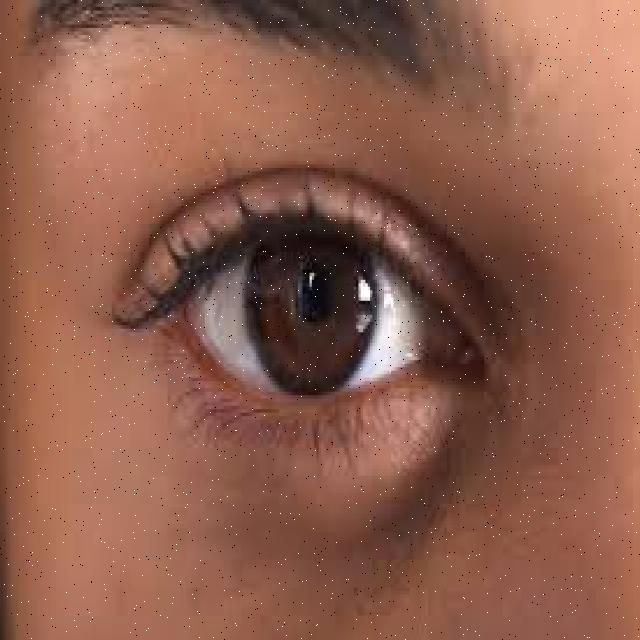Normal: (64, 79, 584, 543)
